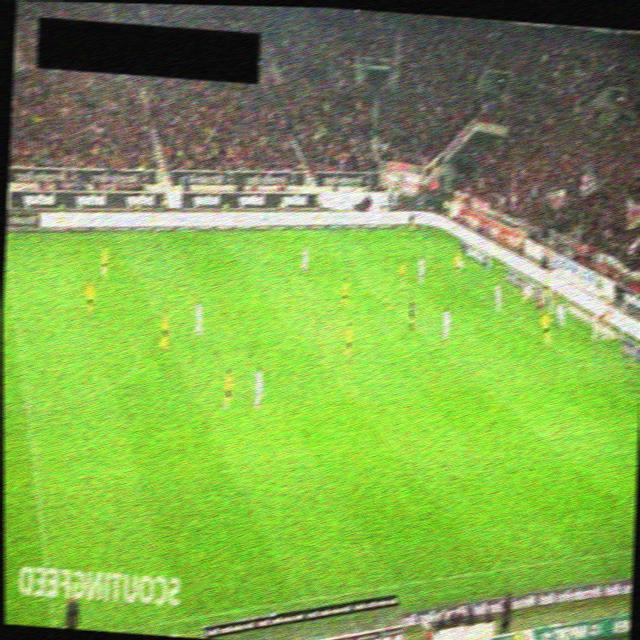bigarea_bottom_inner: (534, 429, 547, 441)
bigarea_top_inner: (340, 260, 354, 273)
bigarea_top_outter: (465, 258, 479, 270)
bottom_arc_area_intersection: (450, 356, 464, 369)
corner: (416, 227, 430, 239)
halfcircle_bottom: (21, 402, 35, 415)
halfcircle_top: (8, 308, 22, 321)
smallarea_bottom_inner: (572, 359, 586, 371)
smallarea_bottom_outter: (623, 356, 636, 369)
smallarea_top_inner: (471, 290, 485, 303)
smallarea_top_outter: (517, 290, 527, 300)
top_arc_area_intersection: (385, 299, 398, 312)
